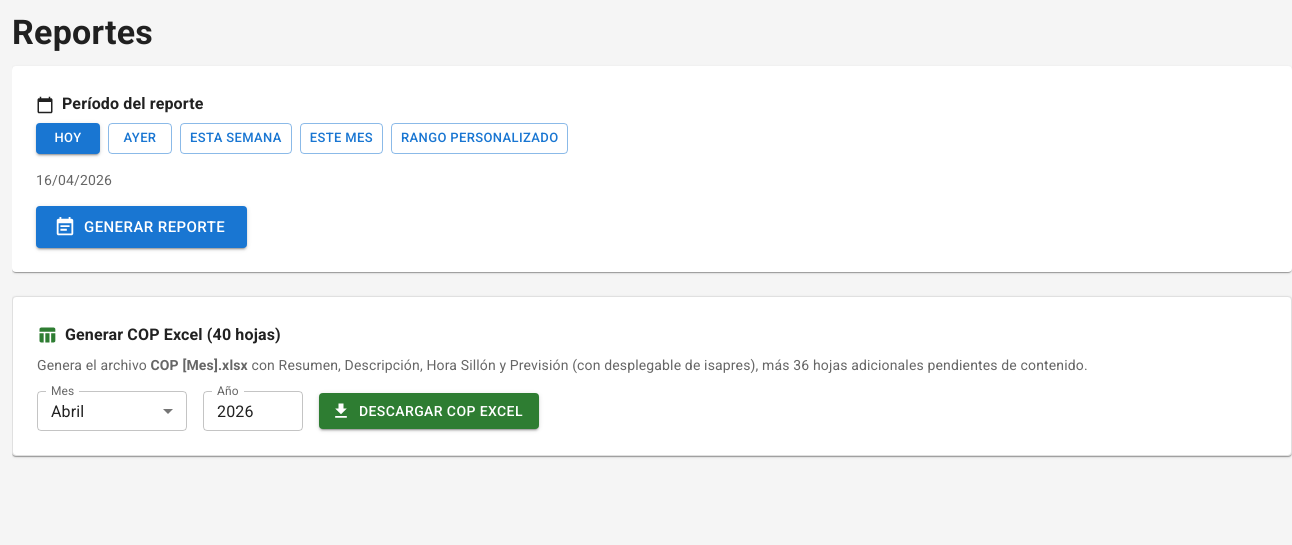
Scenario: Reportes › muestra alerta de error cuando la API falla
Click the button "Generar Reporte".
click(142, 227)  # box [36, 206, 247, 248]
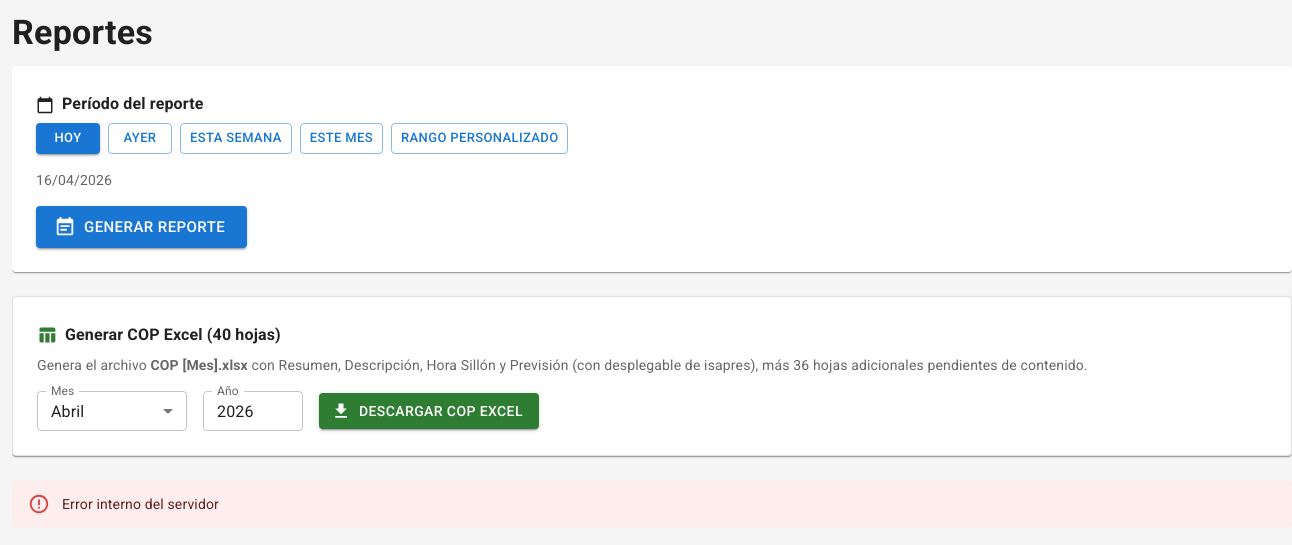
Check: the message "Error interno del servidor" is shown, box [12, 480, 1291, 528]
